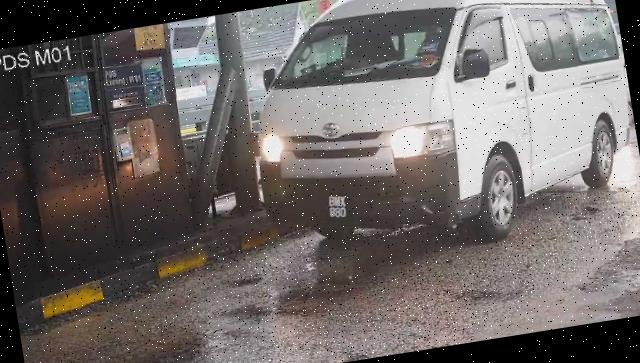License_Plate: (315, 186, 359, 230)
van: (234, 1, 640, 275)
